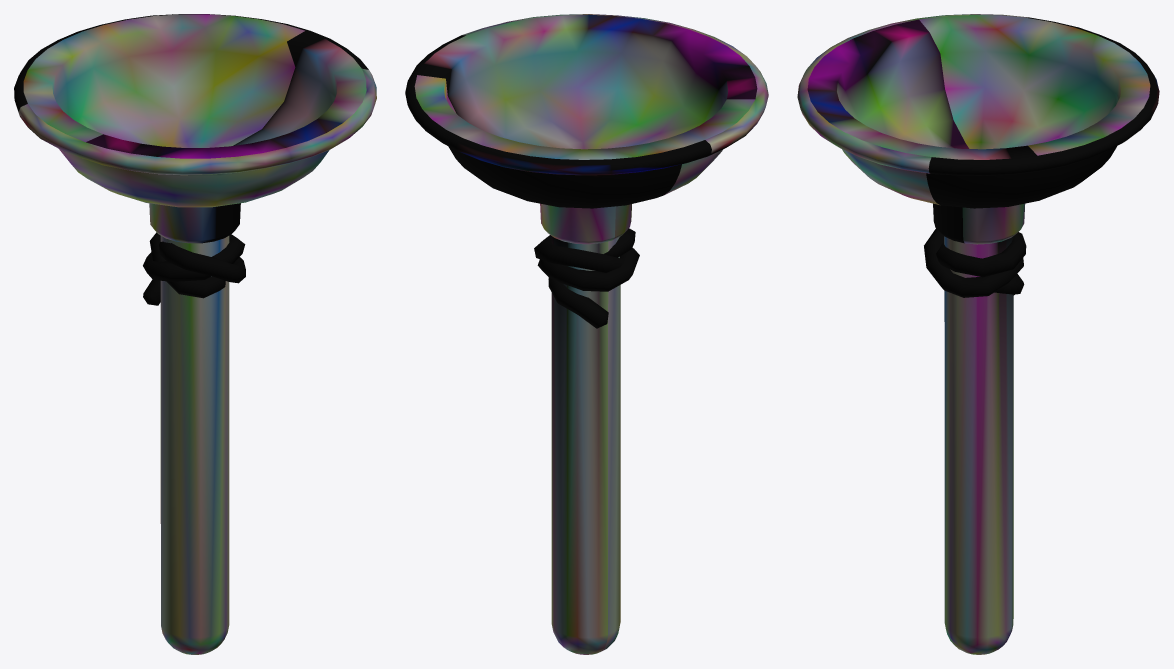
The model's file is Items_Plunger_SM.gltf.
3 views of the same model, side by side, from view 1: azimuth 30°, elevation 25°; view 2: azimuth 150°, elevation 25°; view 3: azimuth 270°, elevation 25° (orthographic).
Parts seen in each view (by area): view 1: Items_Plunger_SM; view 2: Items_Plunger_SM; view 3: Items_Plunger_SM.
Boxes of the visible parts, x1,y1,x2,y2 form: Items_Plunger_SM: [14, 14, 376, 654]; Items_Plunger_SM: [405, 14, 768, 654]; Items_Plunger_SM: [797, 14, 1159, 654].
Bounding box in the file's own units: 0.5207 × 0.8908 × 0.5179.
